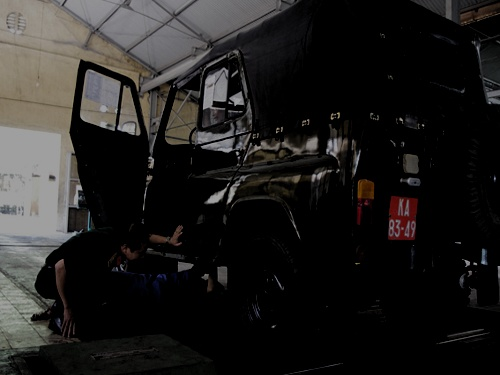plate: (382, 192, 421, 245)
